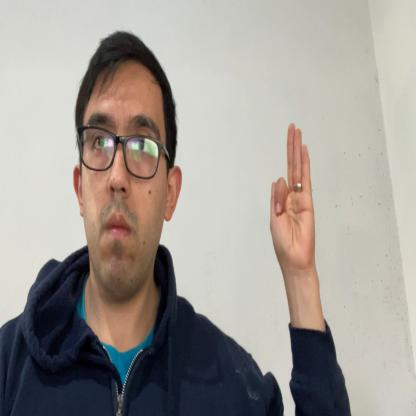F: (270, 120, 314, 270)
